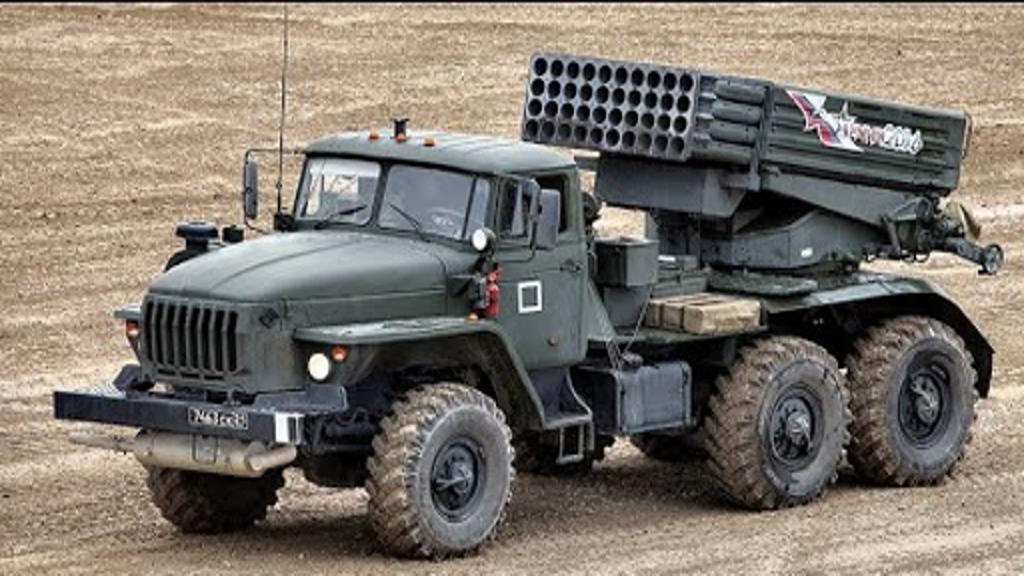MLRS: (64, 46, 990, 550)
